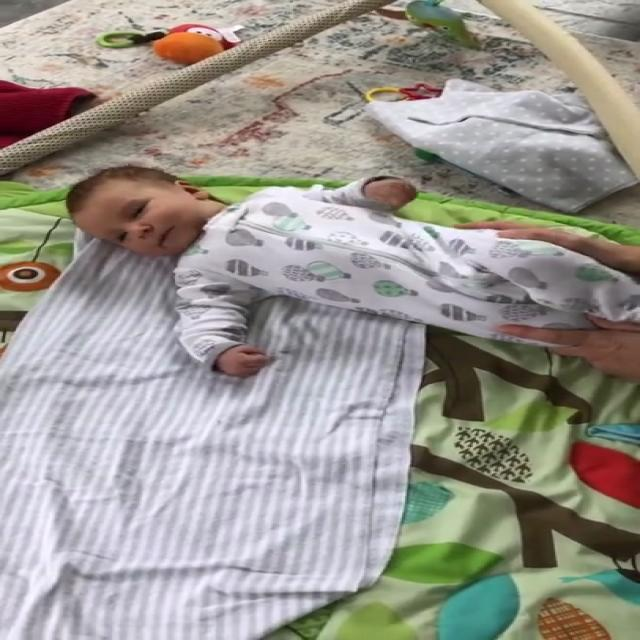baby: (59, 155, 640, 387)
